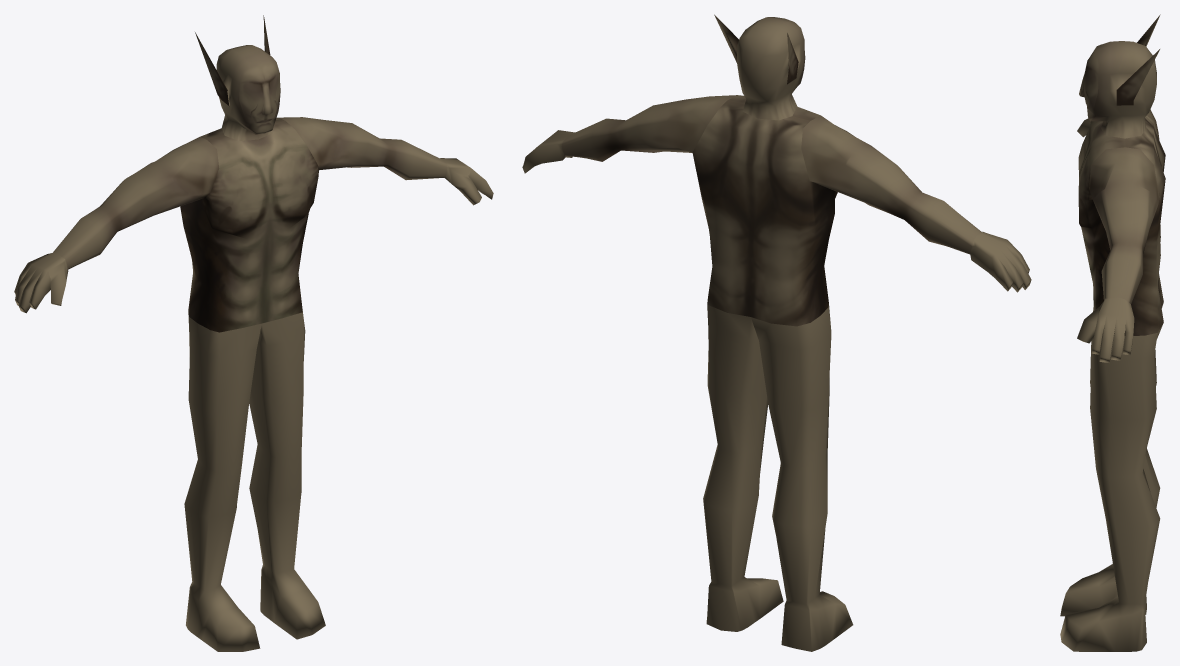
File: placeholder model rescaled.fbx
3 renders of one model, left to right at view 1: azimuth 30°, elevation 25°; view 2: azimuth 150°, elevation 25°; view 3: azimuth 270°, elevation 25°, orthographic. The views are drawn at different scales.
Visible parts, largest first — view 1: pCube1; view 2: pCube1; view 3: pCube1.
Part boxes in pixels (x1,y1,x2,y2): pCube1: (14, 15, 493, 651); pCube1: (522, 14, 1031, 651); pCube1: (1060, 14, 1165, 651).
Bounding box in the file's own units: 318 × 378 × 60.75.
Materials: 1 (1 with a texture image).
